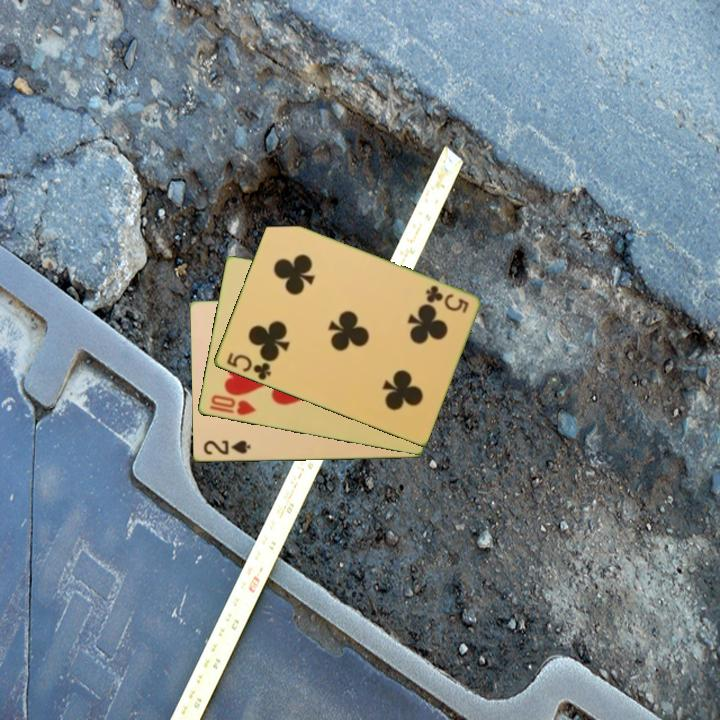10h: (205, 391, 259, 419)
2s: (200, 437, 253, 458)
5c: (223, 349, 274, 383), (422, 282, 471, 316)
